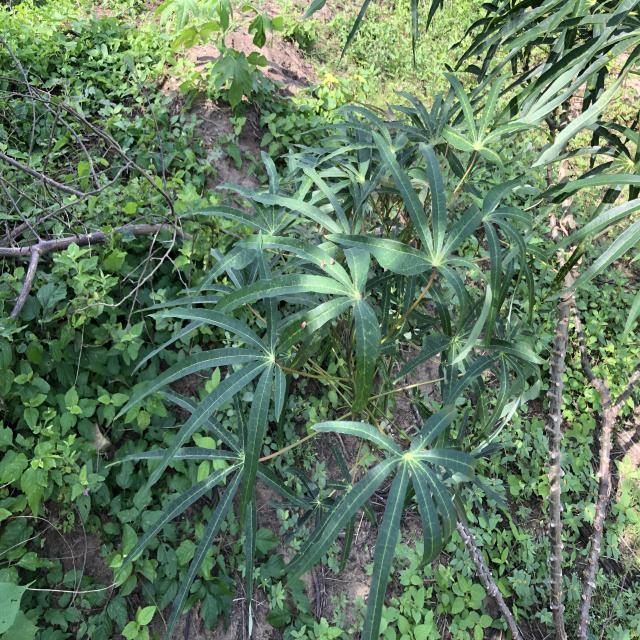Maleza: (0, 0, 301, 137), (16, 186, 85, 528)
Mosca: (288, 310, 313, 339), (390, 464, 419, 481), (320, 251, 341, 272)
